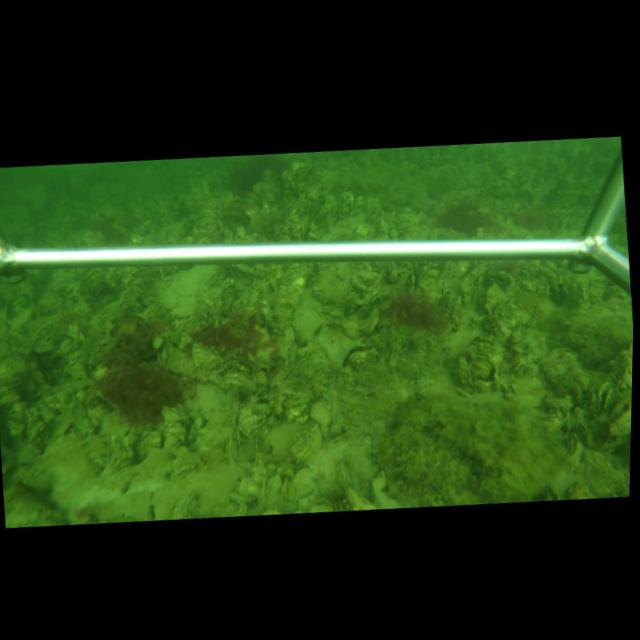Oyster-Closed: (283, 433, 381, 503), (277, 323, 299, 371)
Oyster-Indeterminate: (483, 281, 508, 317)
Oyster-Open: (602, 402, 632, 446), (597, 380, 612, 413)
